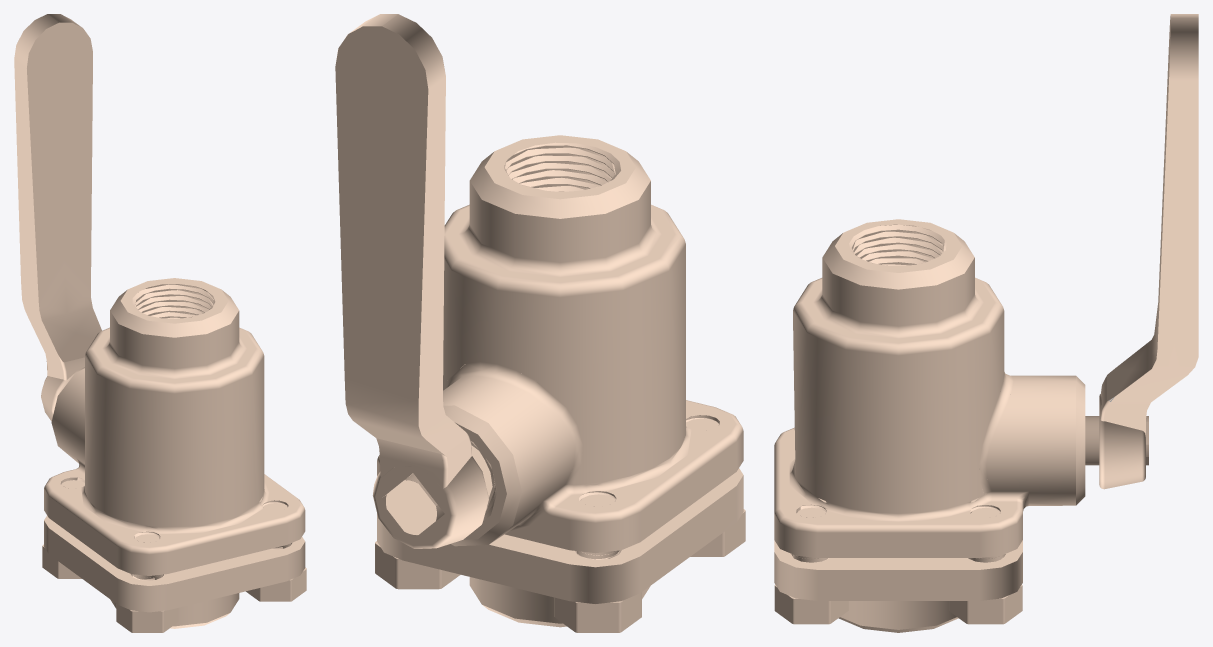
3 views of the same model, side by side, from view 1: azimuth 30°, elevation 25°; view 2: azimuth 150°, elevation 25°; view 3: azimuth 270°, elevation 25° (orthographic). The views are drawn at different scales.
Visible parts, largest first — view 1: 物体.114, 物体.628, 物体.630, 物体.124, 物体.333, 物体.102, 物体.122, 物体.335, 物体.125, 物体.162, 物体.176, 物体.170 (+19 smaller); view 2: 物体.624, 物体.017, 物体.630, 物体.125, 物体.016, 物体.329, 物体.008, 物体.327, 物体.001, 物体.176, 物体.335, 物体.114 (+31 smaller); view 3: 物体.114, 物体.017, 物体.626, 物体.015, 物体.331, 物体.116, 物体.102, 物体.124, 物体.016, 物体.335, 物体.176, 物体.628 (+27 smaller).
Boxes of the visible parts, left/top/right/bottom form: 物体.114: left=97, top=356, right=264, bottom=526; 物体.628: left=27, top=22, right=101, bottom=362; 物体.630: left=14, top=59, right=59, bottom=360; 物体.124: left=118, top=311, right=239, bottom=368; 物体.333: left=168, top=555, right=286, bottom=610; 物体.102: left=49, top=469, right=299, bottom=547; 物体.122: left=168, top=523, right=286, bottom=573; 物体.335: left=44, top=515, right=304, bottom=585; 物体.125: left=51, top=368, right=84, bottom=463; 物体.162: left=97, top=331, right=264, bottom=393; 物体.176: left=132, top=284, right=215, bottom=318; 物体.170: left=119, top=290, right=238, bottom=337; 物体.624: left=335, top=26, right=444, bottom=455; 物体.017: left=443, top=260, right=669, bottom=484; 物体.630: left=418, top=77, right=467, bottom=456; 物体.125: left=455, top=378, right=575, bottom=543; 物体.016: left=469, top=181, right=638, bottom=262; 物体.329: left=403, top=543, right=569, bottom=600; 物体.008: left=444, top=210, right=669, bottom=297; 物体.327: left=640, top=486, right=736, bottom=592; 物体.001: left=469, top=152, right=638, bottom=218; 物体.176: left=505, top=142, right=620, bottom=191; 物体.335: left=489, top=468, right=743, bottom=567; 物体.114: left=460, top=245, right=685, bottom=458; 物体.114: left=793, top=312, right=898, bottom=513; 物体.017: left=898, top=311, right=1004, bottom=513; 物体.626: left=1111, top=80, right=1198, bottom=402; 物体.015: left=986, top=381, right=1075, bottom=505; 物体.331: left=817, top=570, right=979, bottom=600; 物体.116: left=817, top=532, right=979, bottom=557; 物体.102: left=780, top=428, right=1016, bottom=524; 物体.124: left=822, top=244, right=898, bottom=326; 物体.016: left=898, top=244, right=974, bottom=326; 物体.335: left=774, top=540, right=1022, bottom=569; 物体.176: left=849, top=224, right=944, bottom=265; 物体.628: left=1106, top=16, right=1170, bottom=400.
Size of the model in its own units: 0.08 by 0.2077 by 0.1365.
